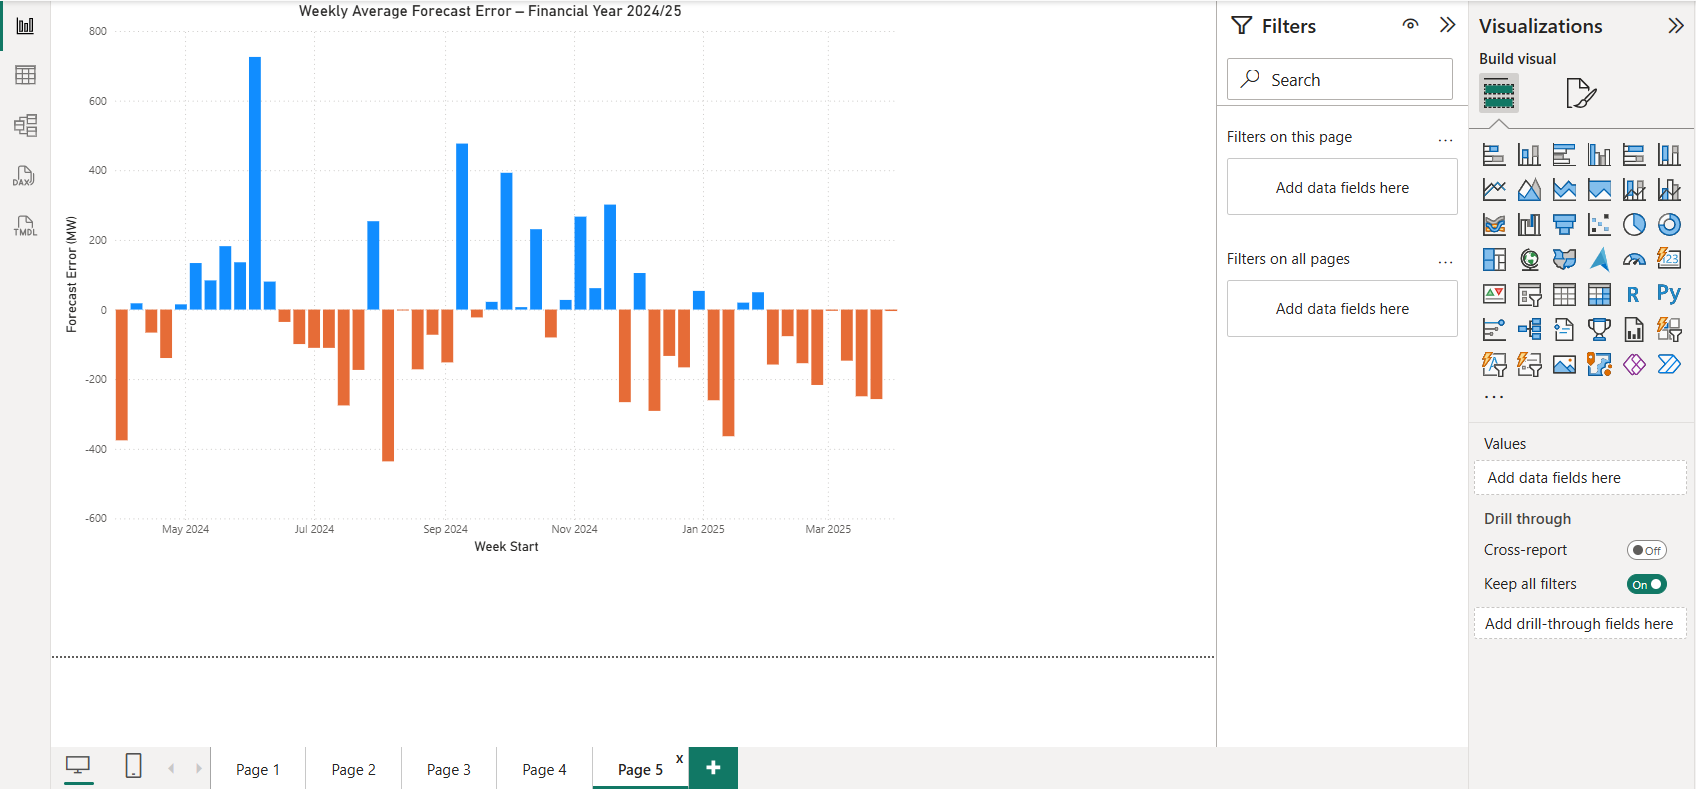

What the dashboard file says about the page in this screenshot:
{"tool":"powerbi","page":{"name":"Page 5","canvas":[1280,720],"ordinal":4},"visuals":[{"type":"clusteredColumnChart","title":"Weekly Average Forecast Error – Financial Year 2024/25","fields":{"Category":["public vw_weekly_forecast_error.week_start"],"Y":["Avg(public vw_weekly_forecast_error.avg_forecast_error)"]},"box":[9.6,0,946.5,612.7],"z":0}]}

Visuals, with their boxes on the page's 1280x720 design canvas (x1, y1, x2, y2). These are canvas units, not pixel positions in the 1696x789 screenshot, which may show the page scaled, cropped or inside an application window:
"Weekly Average Forecast Error – Financial Year 2024/25" clusteredColumnChart: bbox=(10, 0, 956, 613)
